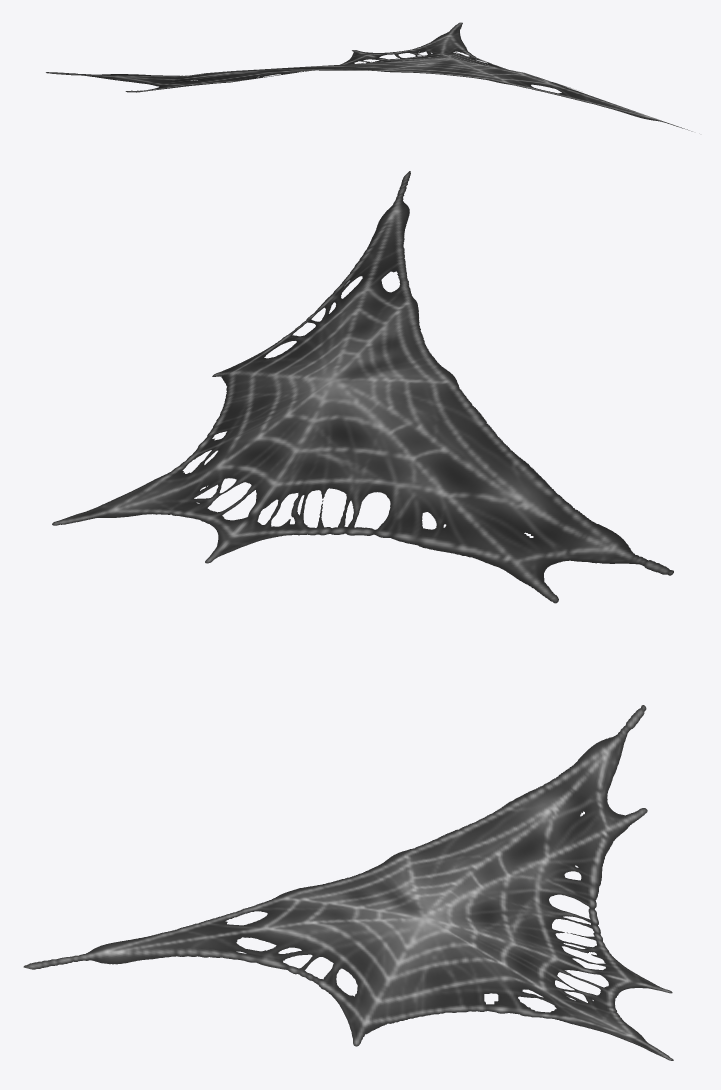
File: web.glb
3 renders of one model, top to bottom at view 1: azimuth 30°, elevation 25°; view 2: azimuth 150°, elevation 25°; view 3: azimuth 270°, elevation 25°, orthographic. The views are drawn at different scales.
Parts seen in each view (by area): view 1: web; view 2: web; view 3: web.
Boxes of the visible parts, box(x1,y1,x2,y2) form: web: box(46, 22, 692, 131); web: box(52, 171, 673, 603); web: box(23, 705, 673, 1060).
Bounding box in the file's own units: 1.5 × 0.2539 × 1.45.
1 material, 1 textured.
